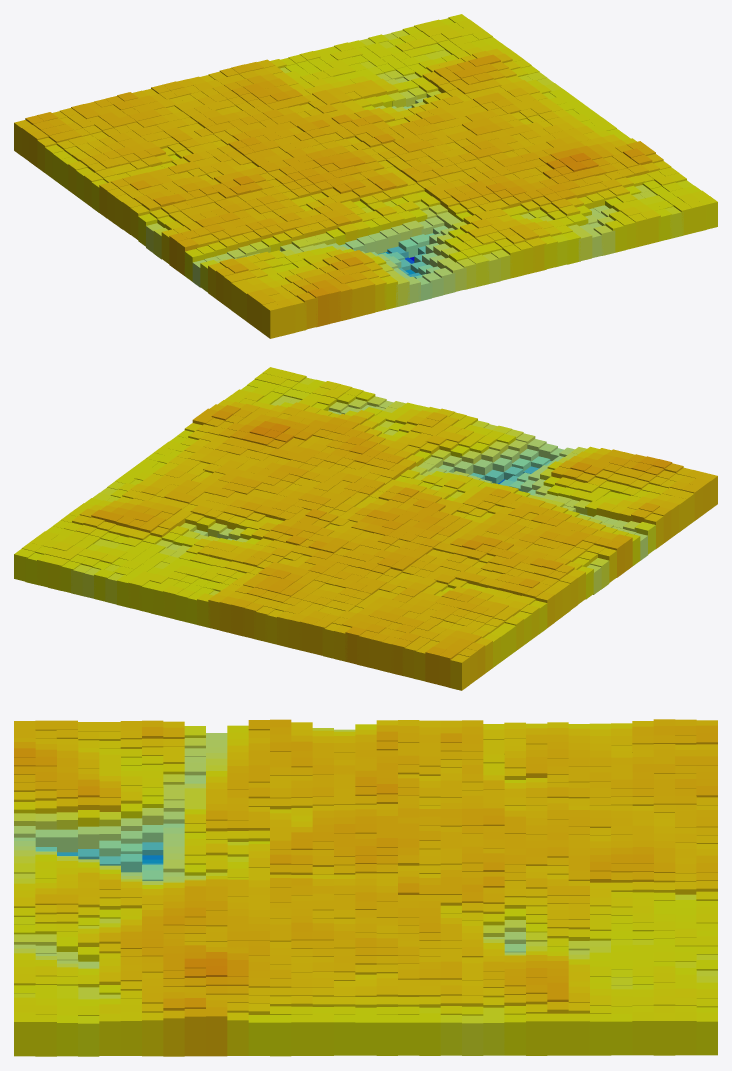
Rendered from population.glb.
The picture shows the model from 3 angles, top to bottom: view 1: azimuth 30°, elevation 25°; view 2: azimuth 150°, elevation 25°; view 3: azimuth 270°, elevation 25°; orthographic projection. The views are drawn at different scales.
Visible parts, largest first — view 1: population; view 2: population; view 3: population.
Boxes of the visible parts, x1=… form: population: x1=14, y1=14, x2=717, y2=338; population: x1=14, y1=367, x2=717, y2=690; population: x1=14, y1=719, x2=717, y2=1056.
Size of the model in its own units: 3302 by 241 by 3271.
